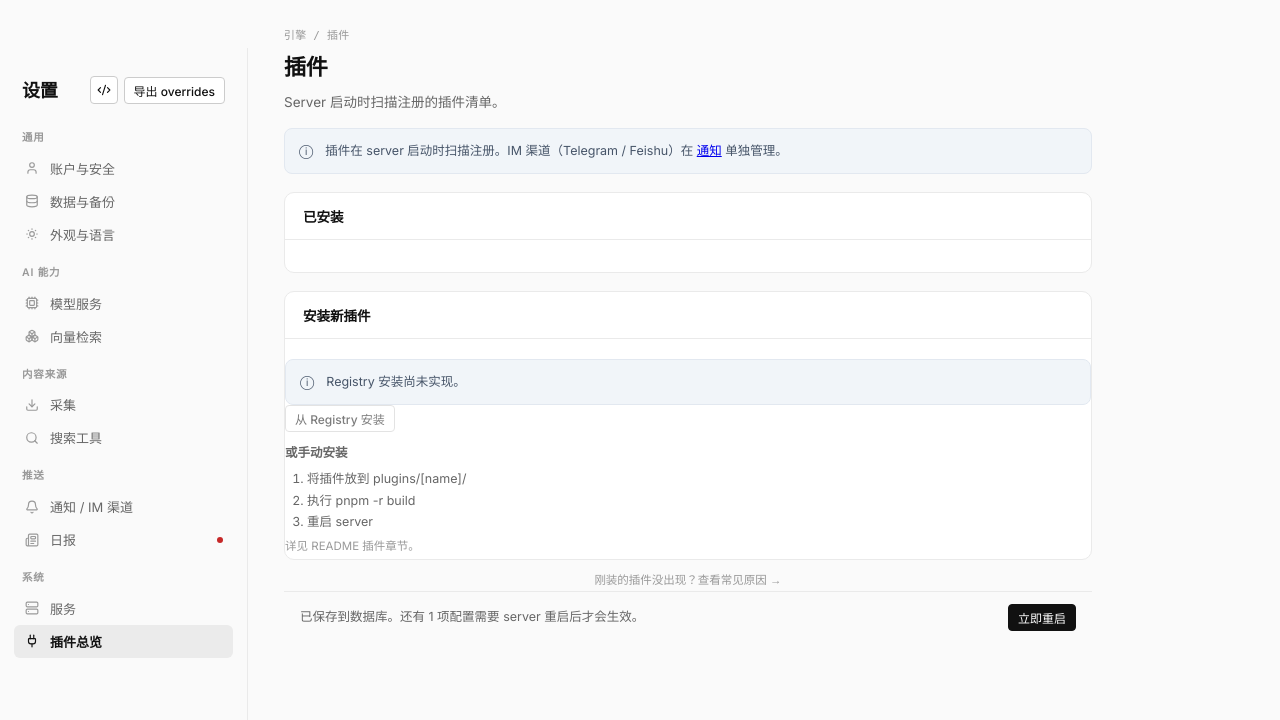
it: SettingsShell · cross-group dirty › per-field commit subtracts resolved keys from pending-restart accumulator
Expected: the text "已保存到数据库。还有 1 项配置需要 server 重启后才会生效。" is shown, [300,608,644,626]
What coordinates should you click on to do the following:
click the button "账户与安全"
I would click on:
 (124, 168)
Its box is [14,152,233,185].
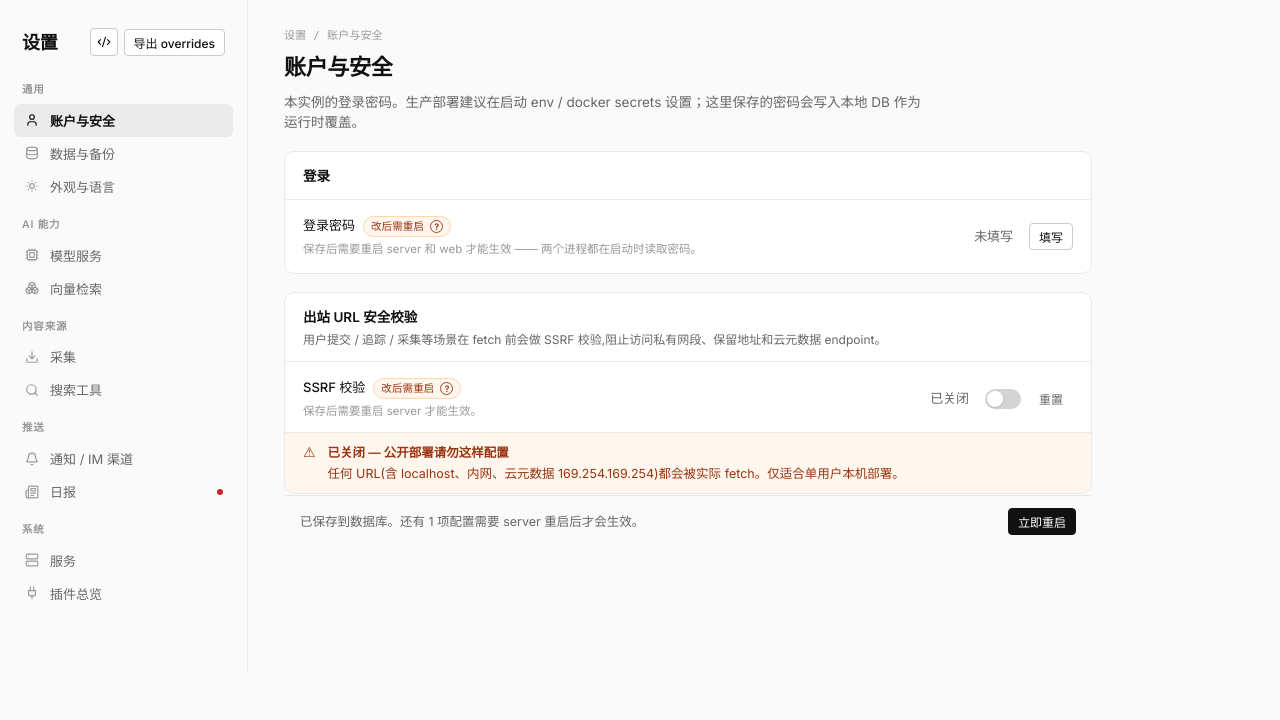
What coordinates should you click on to do the following:
click the button named "SSRF 校验"
I would click on:
 (1003, 399)
Its box is [985,389,1021,409].
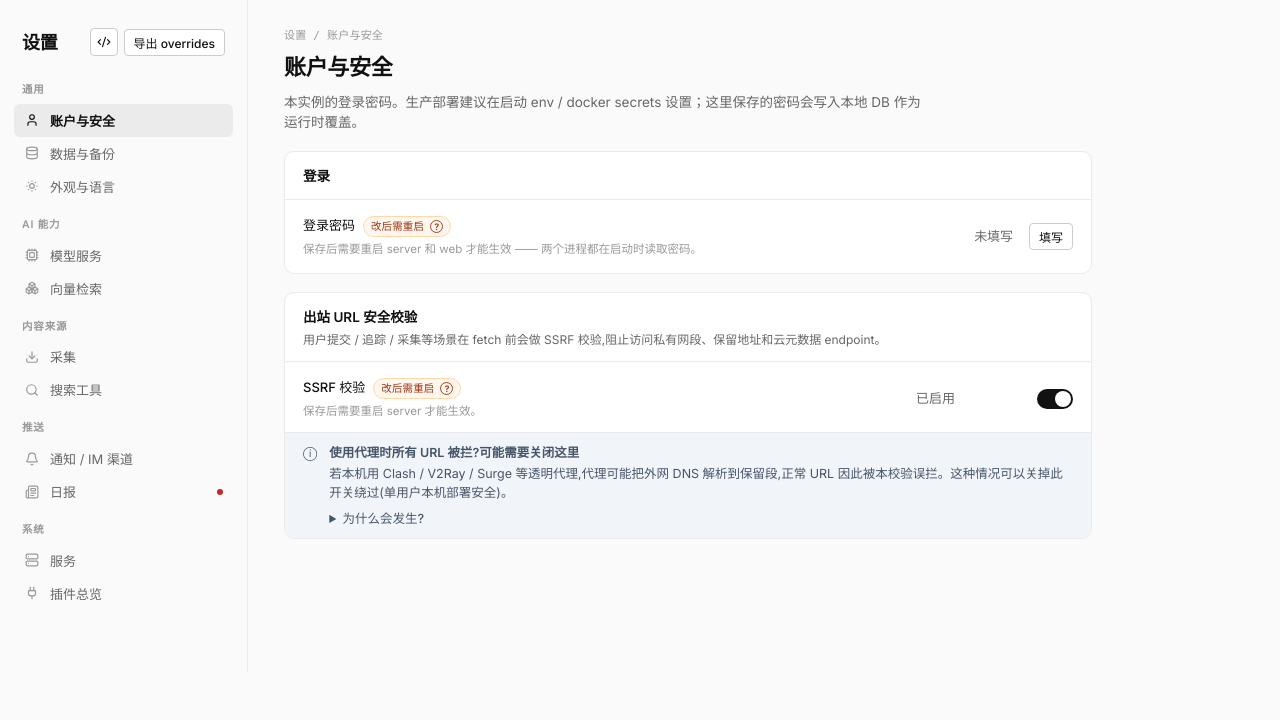
Now the text "还有 1 项配置需要 server 重启" is gone
